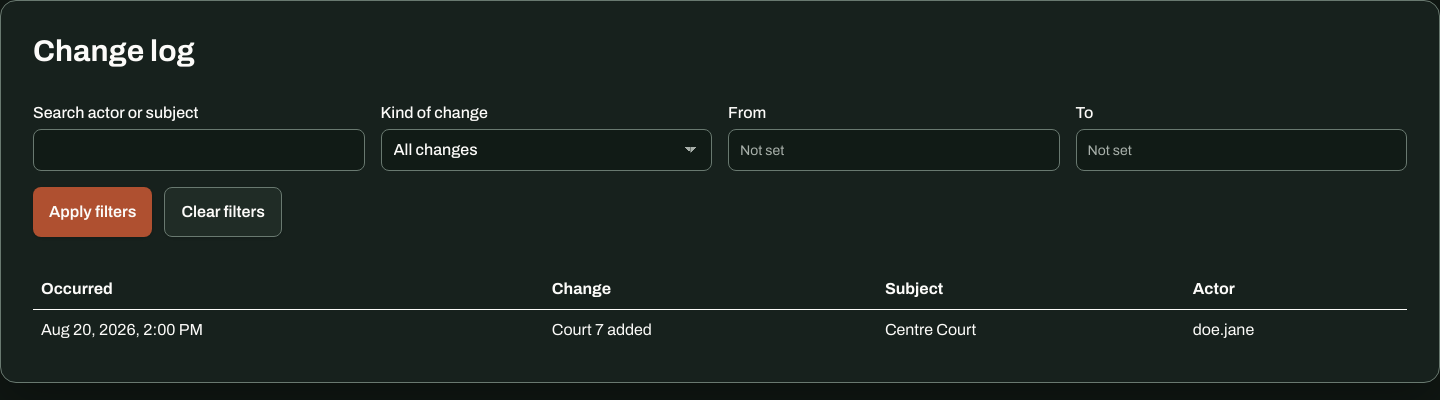
Scenario: AdminAuditView › given active filters, when clearing them, then the unfiltered first page is restored
Check: the row with test id "audit-row" is shown, box 33,310 -> 1407,350
Type "Jane" into the field with test id "audit-filter-query" at {"x": 199, "y": 150}, box 33,129 -> 364,171
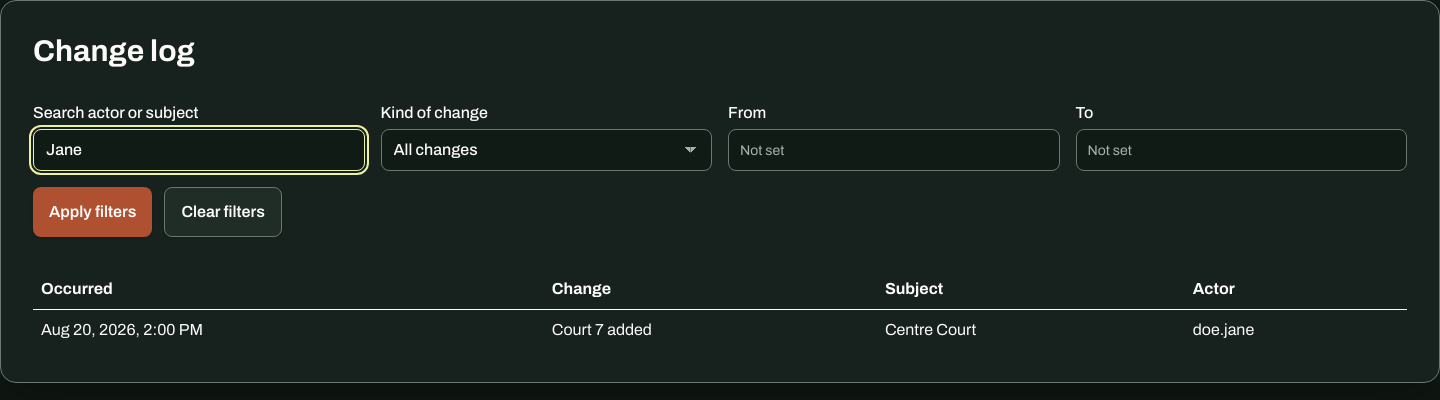
Select "Court added" in the dropdown with test id "audit-filter-event-type" at {"x": 546, "y": 150}, box 380,129 -> 712,171
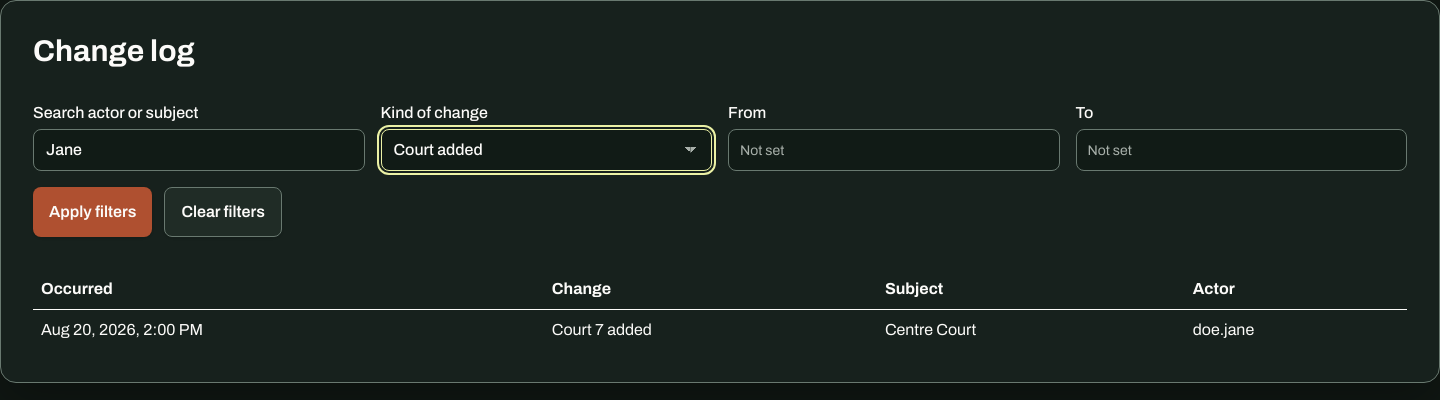
Click the button with test id "audit-filter-apply" at {"x": 93, "y": 212}, box 33,187 -> 152,237
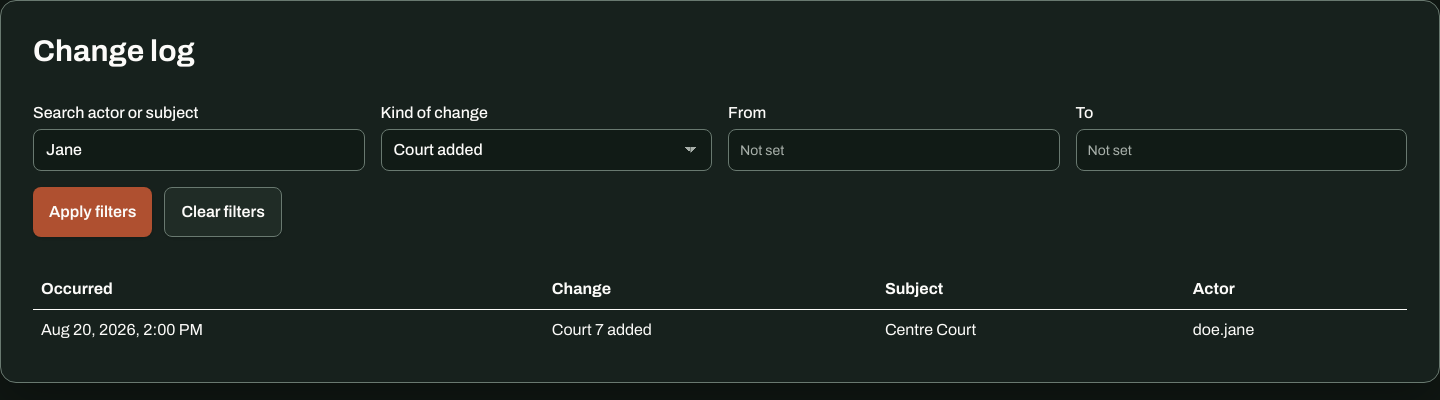
Click the button with test id "audit-filter-clear" at {"x": 223, "y": 212}, box 164,187 -> 282,237
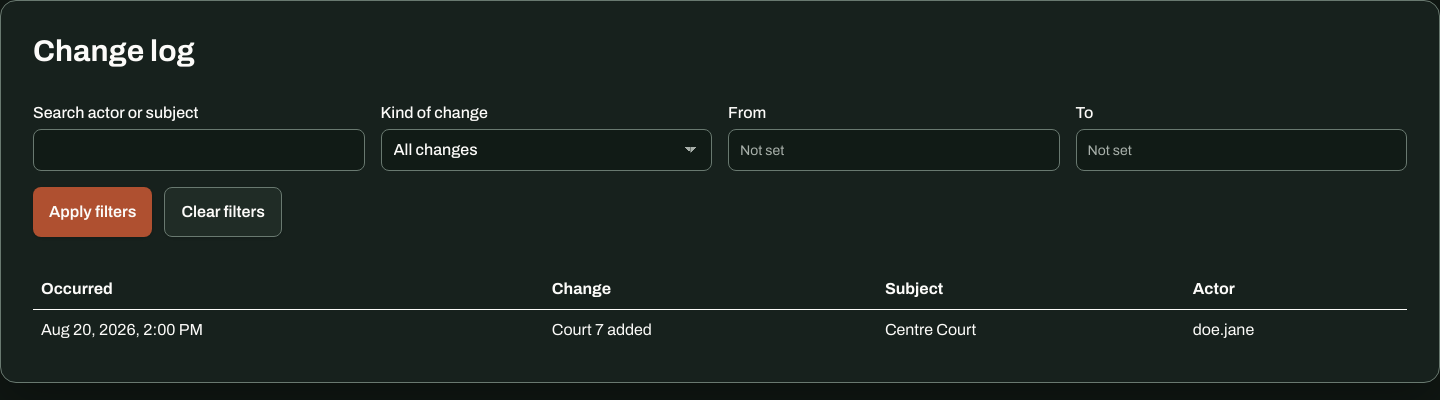
Check: the field with test id "audit-filter-query" is empty, box 33,129 -> 364,171
